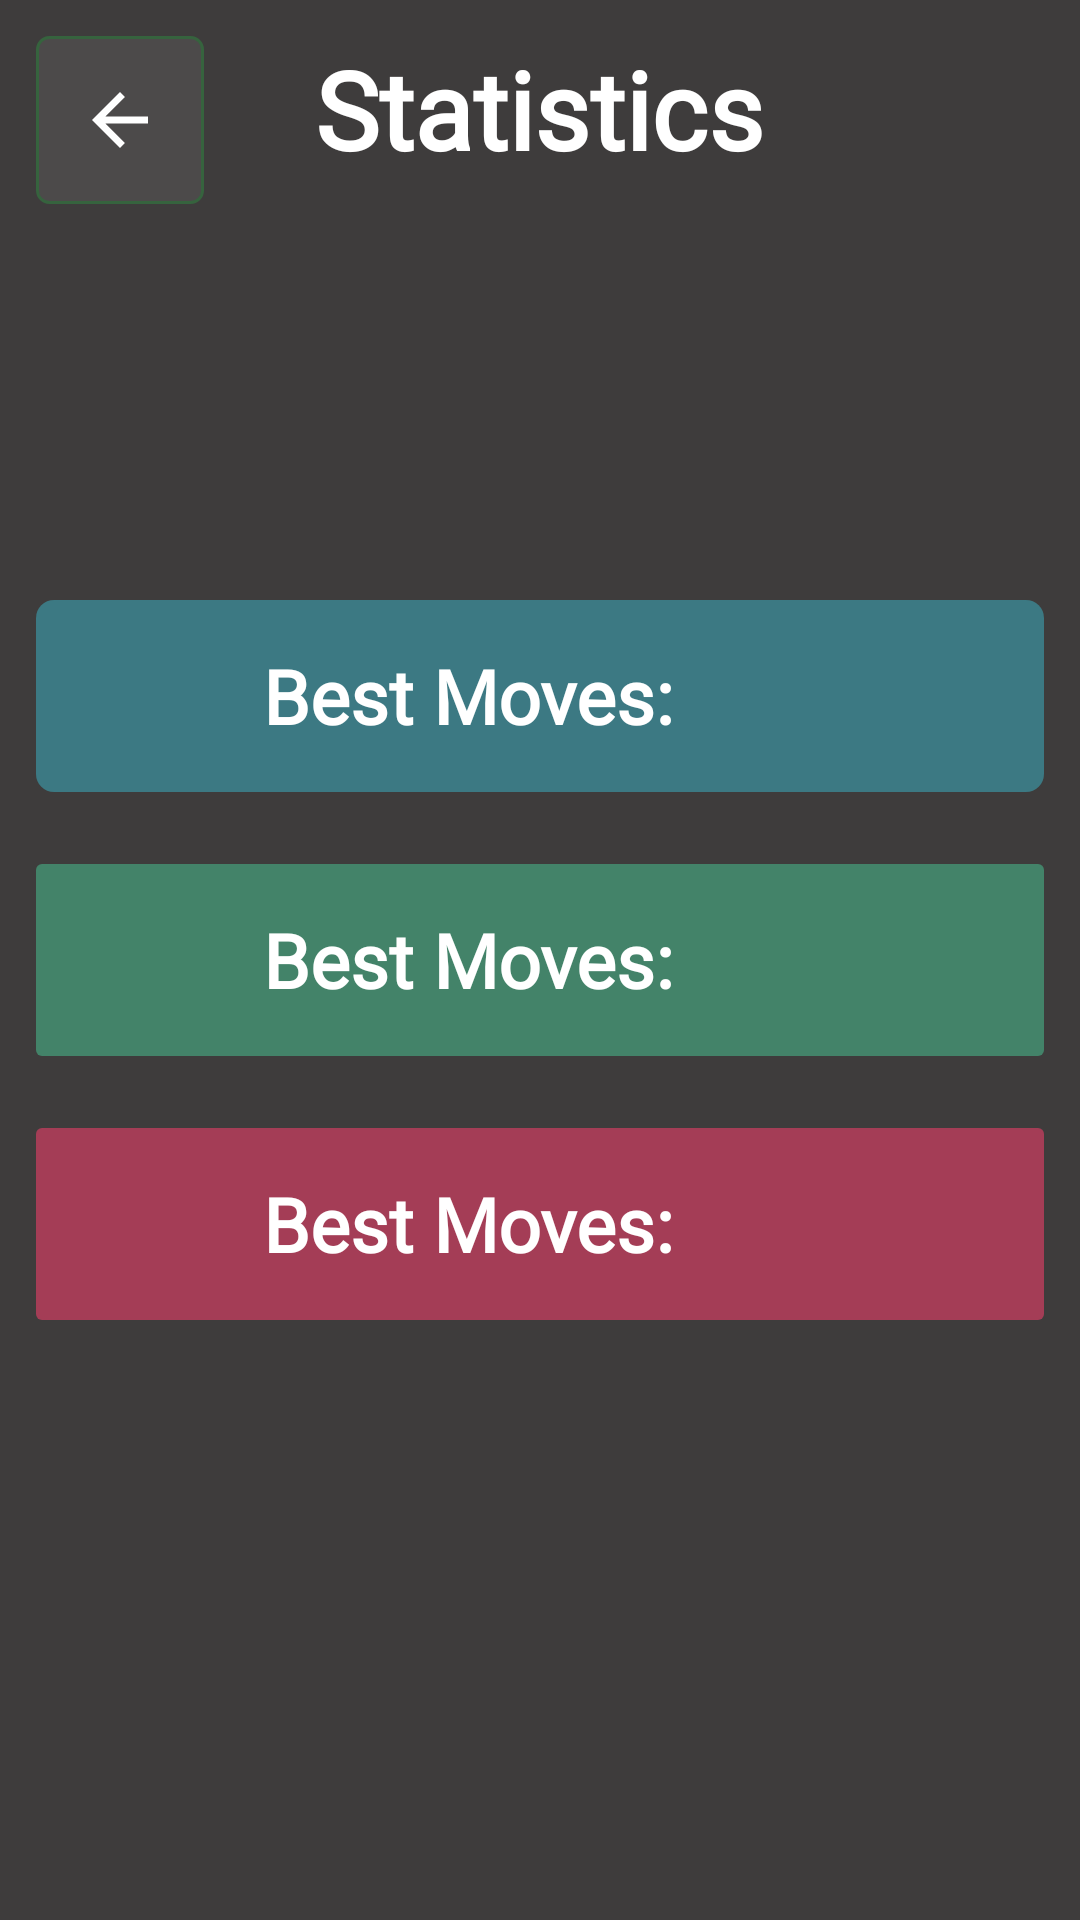

Named icons in this screenshot (1080px x 1920px) and their centers, point (x, y):
arrow back: point (120, 120)
